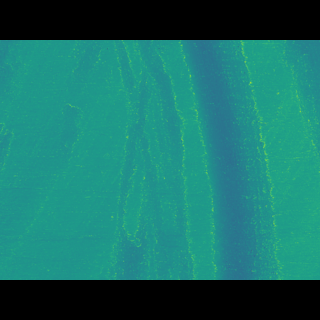Loch: (180, 70, 287, 251), (103, 70, 198, 252), (284, 69, 319, 161)
